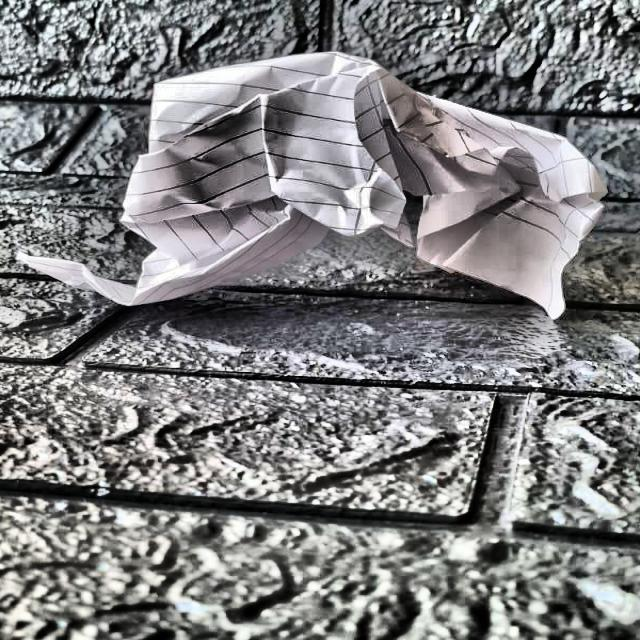paper: (36, 51, 592, 321)
